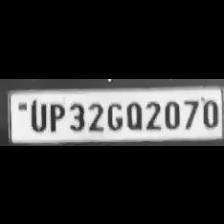0: (198, 96, 220, 128), (160, 96, 180, 128)
2: (142, 97, 162, 130), (86, 98, 104, 130)
3: (66, 98, 86, 130)
7: (180, 96, 198, 128)
G: (104, 99, 124, 130)
P: (45, 99, 65, 131)
Q: (123, 98, 143, 130)
U: (25, 98, 47, 130)
